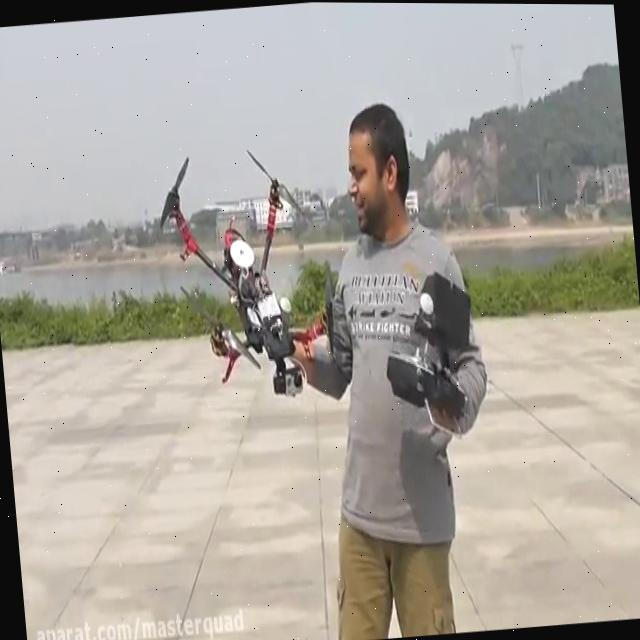drone: (148, 135, 344, 410)
